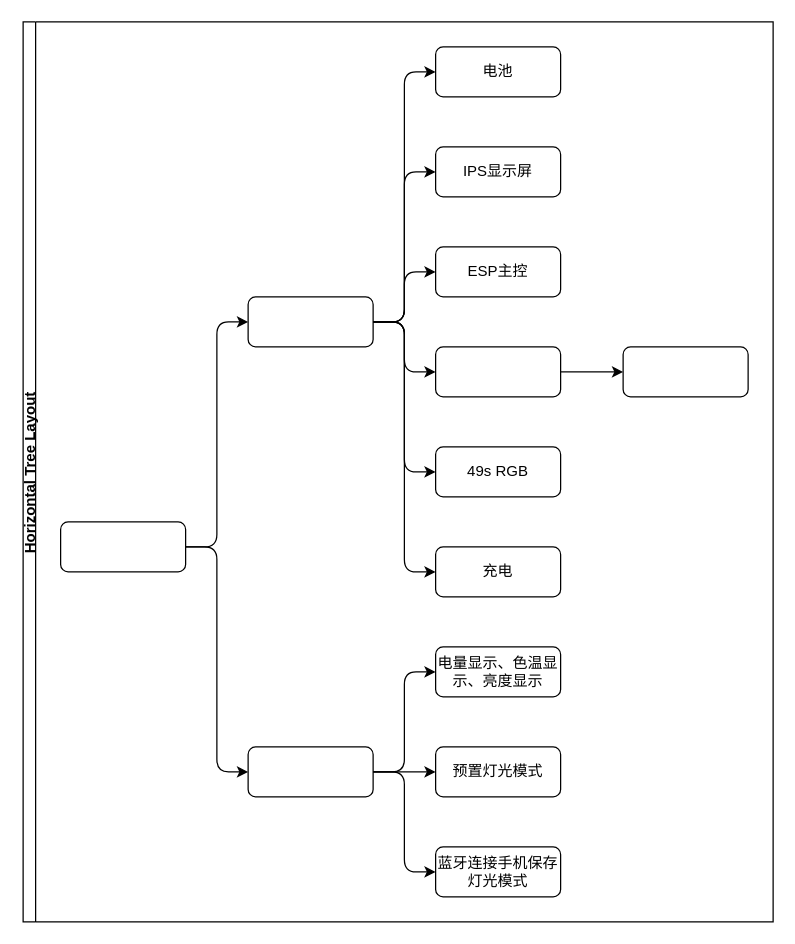
Some shapes in this 795 by 944 pixel diagram are drawn without their labels. Here are the shapes that lost their labels. From the top down, the centre of each, then its label:
At (x=310, y=321): "硬件".
At (x=497, y=371): "五维按键".
At (x=685, y=371): "长按开关机".
At (x=122, y=546): "补光灯".
At (x=310, y=771): "软件".
